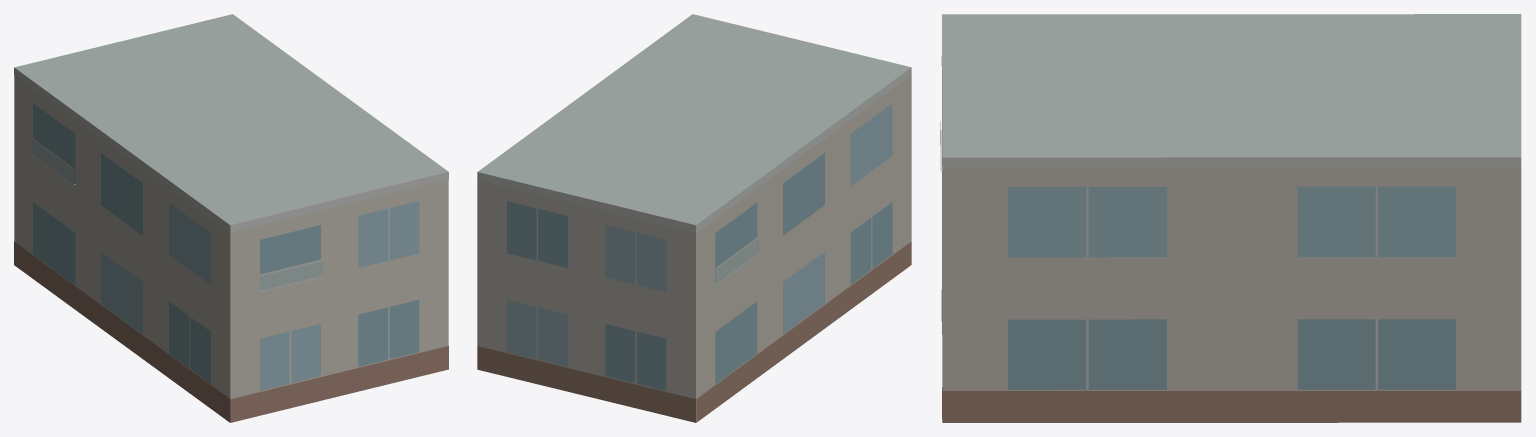
Rendered from survey-upis-32822747.glb.
The picture shows the model from 3 angles, left to right: view 1: azimuth 30°, elevation 25°; view 2: azimuth 150°, elevation 25°; view 3: azimuth 270°, elevation 25°; orthographic projection. The views are drawn at different scales.
Parts seen in each view (by area): view 1: survey-upis-32822747.tmp; view 2: survey-upis-32822747.tmp; view 3: survey-upis-32822747.tmp.
Part boxes in pixels (x1,y1,x2,y2): survey-upis-32822747.tmp: (14, 14, 448, 422); survey-upis-32822747.tmp: (477, 14, 911, 422); survey-upis-32822747.tmp: (940, 14, 1521, 422).
Size of the model in its own units: 7.12 by 6.1 by 12.12.
